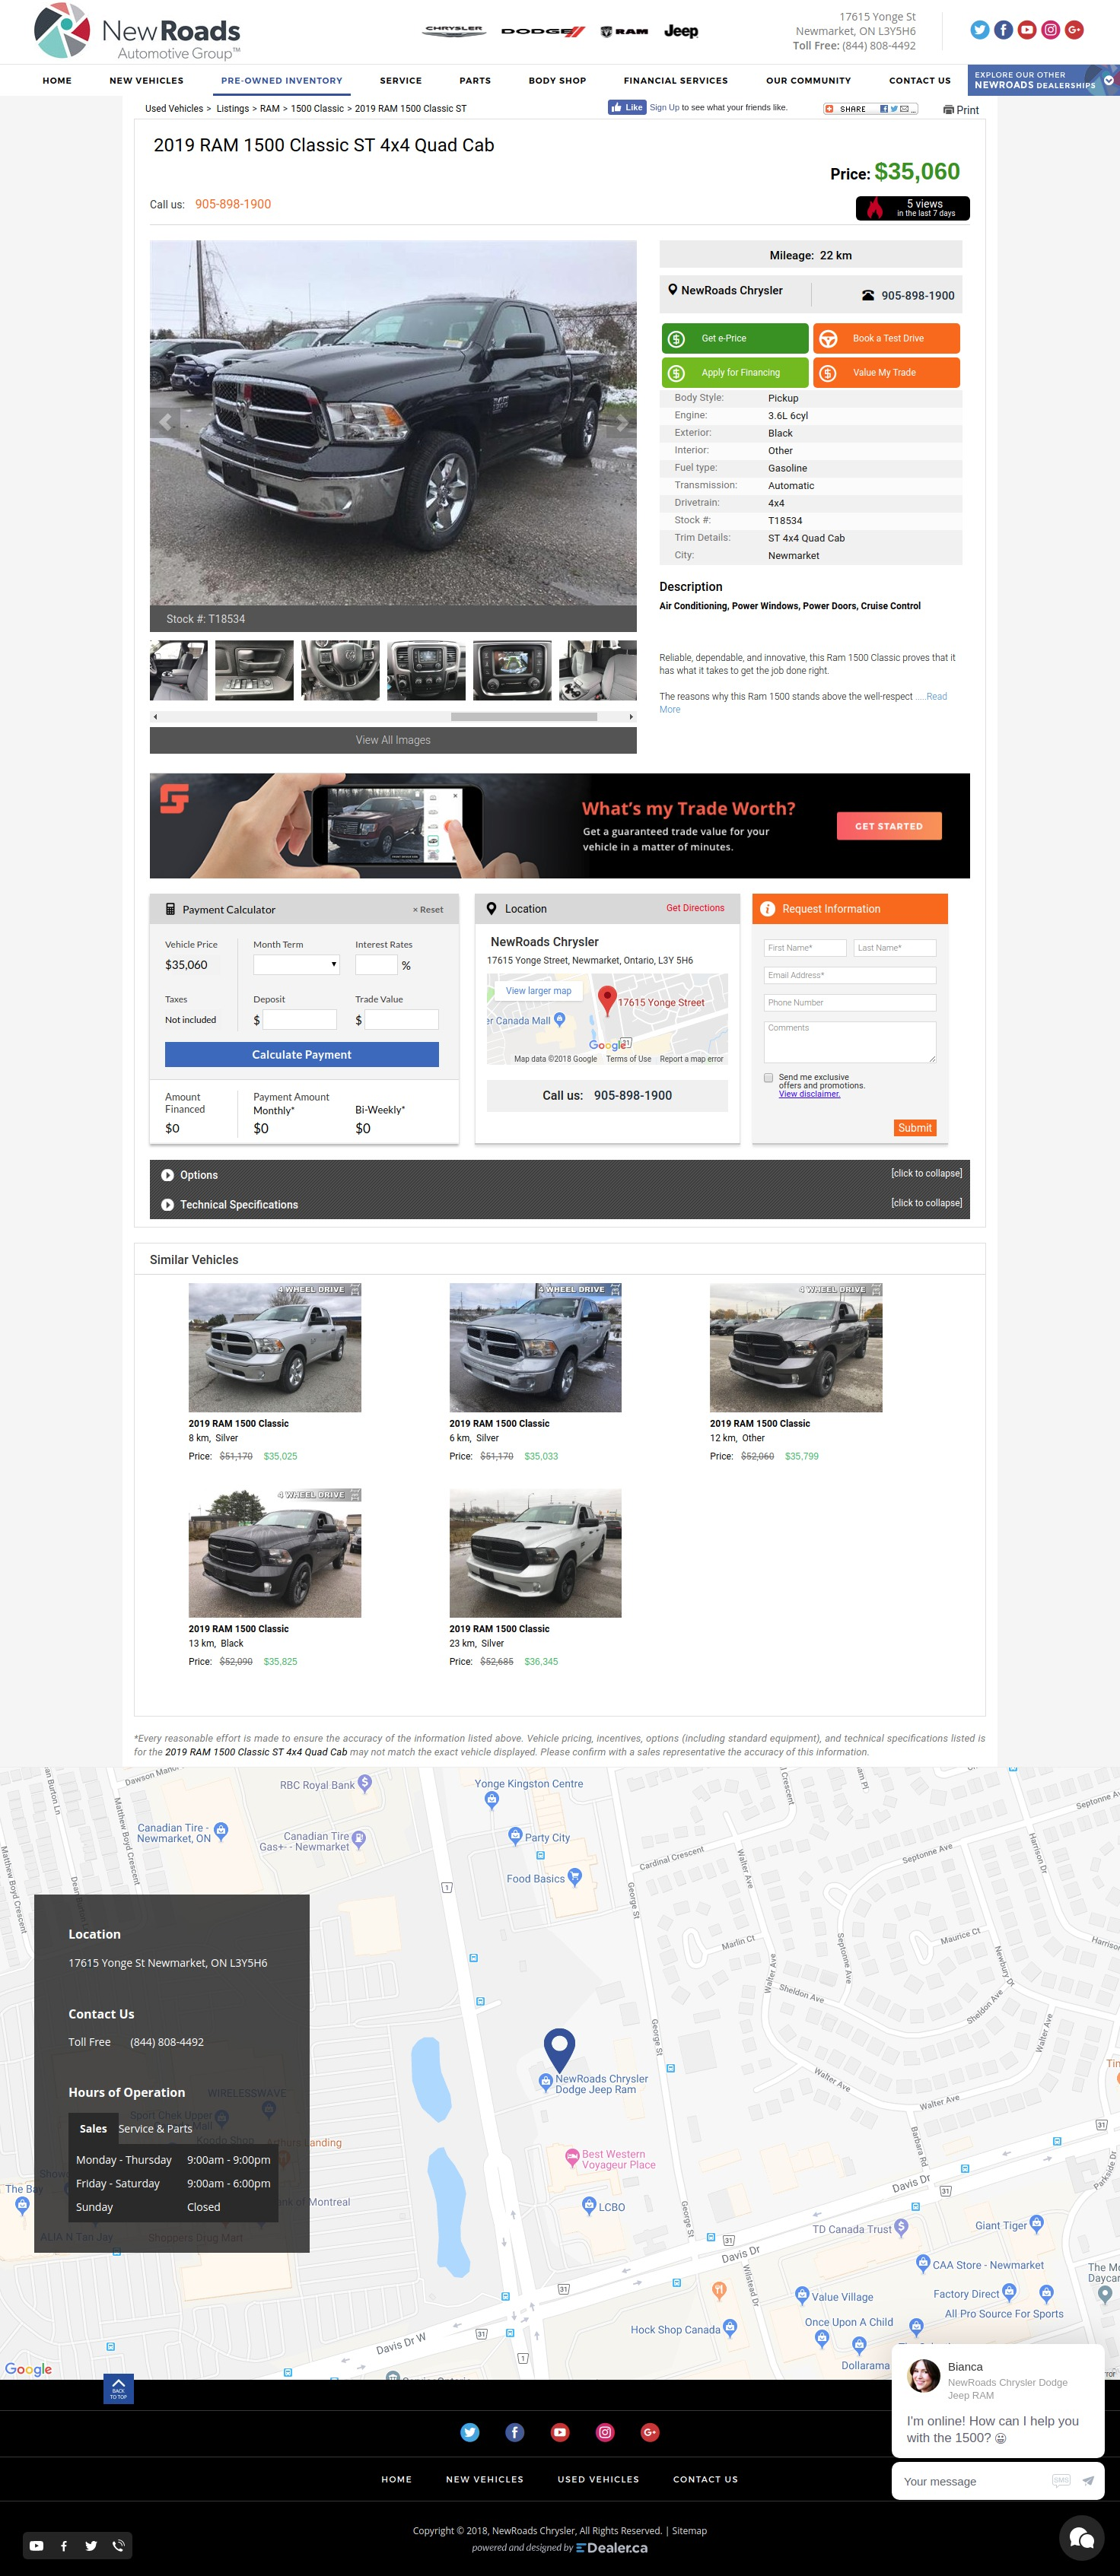car: (630, 713, 633, 721)
